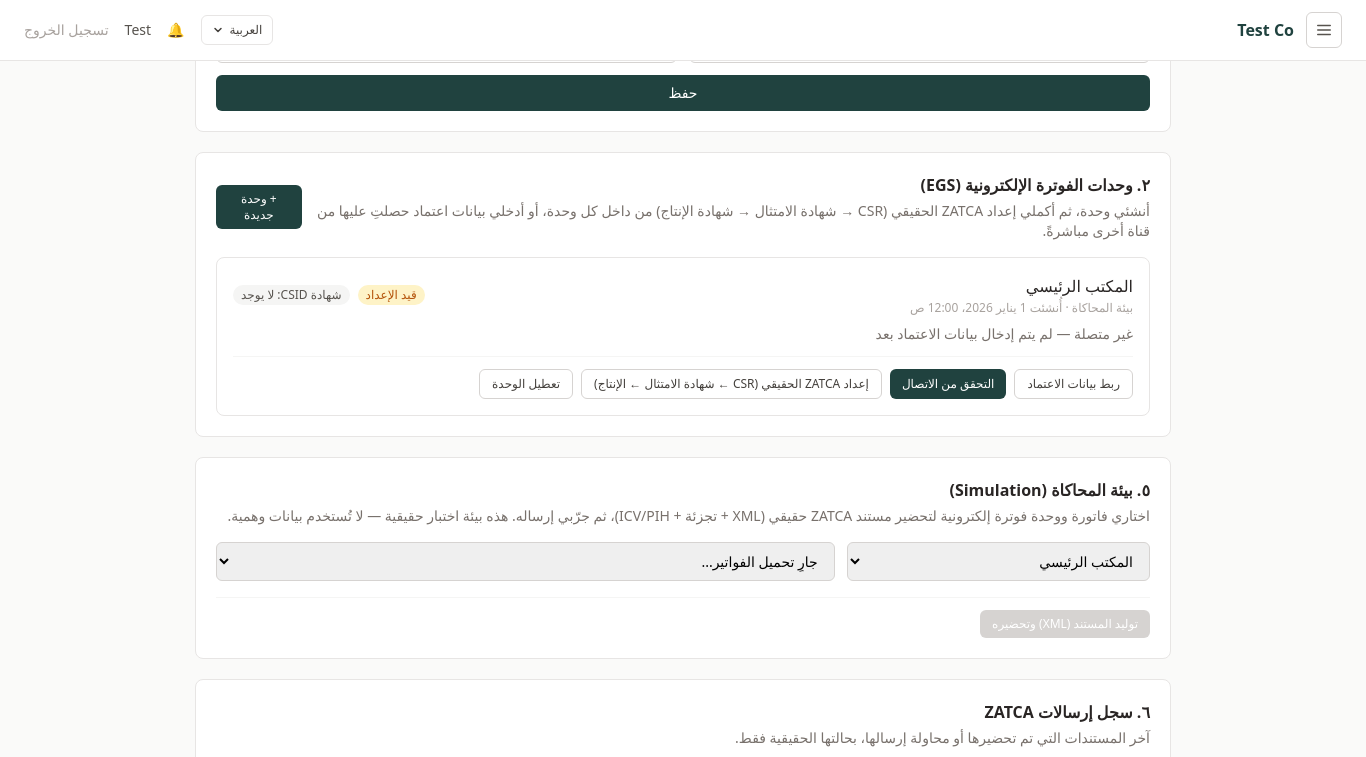
Test: <ZatcaSettings/> — Onboarding Center access › opening the panel renders all five onboarding tabs and the current CSID status badge
This screenshot has width=1366, height=757.
(page scrolled)
Click the button "إعداد ZATCA الحقيقي (CSR ← شهادة الامتثال ← الإنتاج)". click: click(732, 384)
box: x1=581 y1=369 x2=882 y2=399
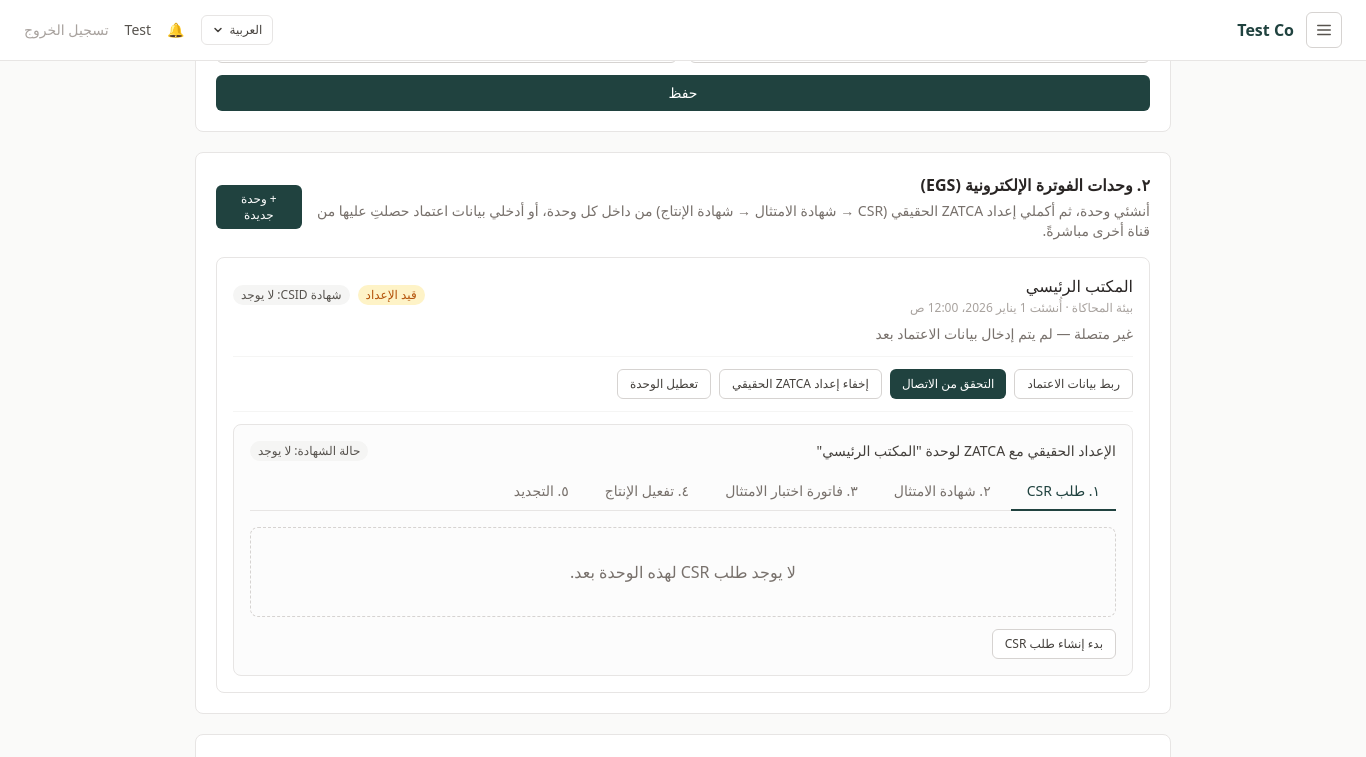
expect the tab "١. طلب CSR" is shown: met, box x1=1011 y1=473 x2=1116 y2=511
expect the tab "٢. شهادة الامتثال" is shown: met, box x1=878 y1=473 x2=1007 y2=511
expect the tab "٣. فاتورة اختبار الامتثال" is shown: met, box x1=709 y1=473 x2=874 y2=511
